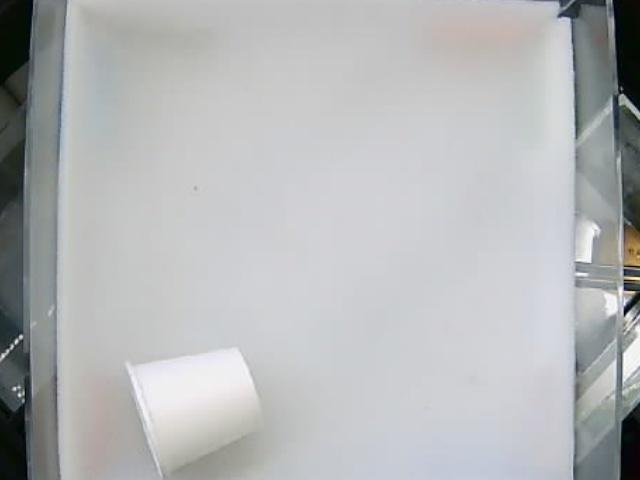Cup: (126, 344, 262, 480)
